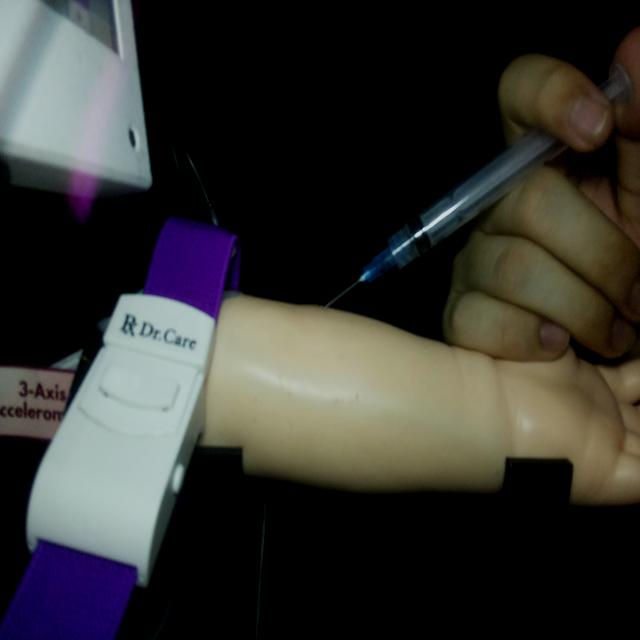29 degrees: (321, 62, 632, 312)
